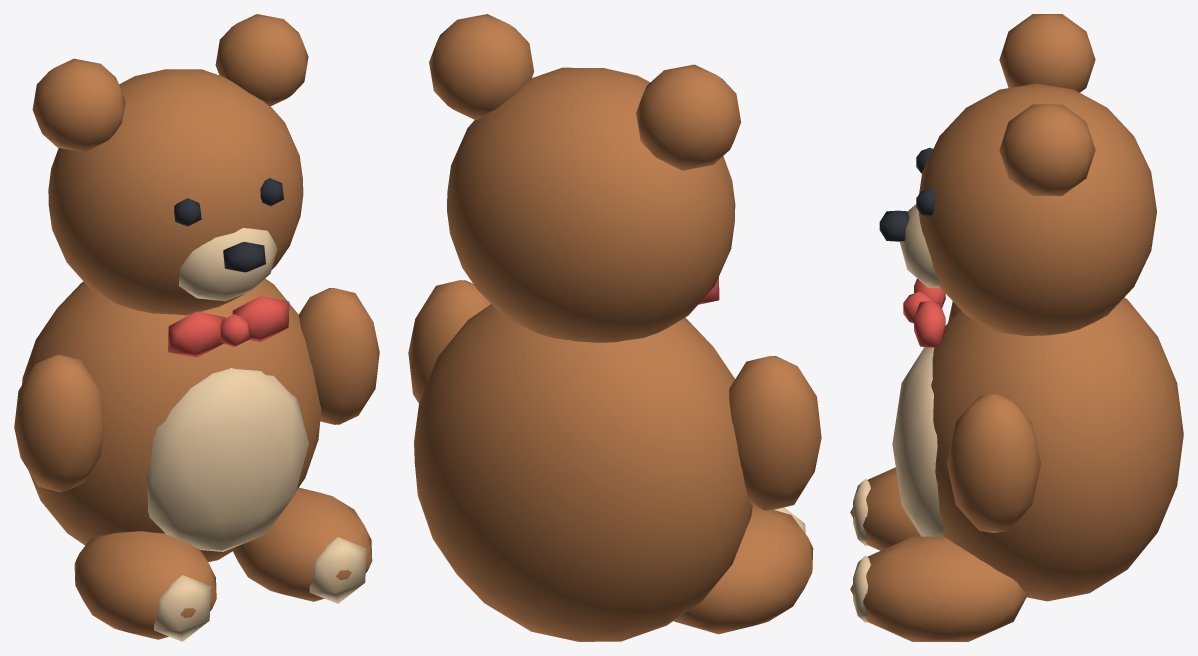
File: ursinho.glb
The picture shows the model from 3 angles, left to right: view 1: azimuth 30°, elevation 25°; view 2: azimuth 150°, elevation 25°; view 3: azimuth 270°, elevation 25°; orthographic projection. The views are drawn at different scales.
Parts seen in each view (by area): view 1: ursinho; view 2: ursinho; view 3: ursinho.
Part boxes in pixels (<box>): ursinho: <box>14,14,379,641</box>; ursinho: <box>408,14,821,641</box>; ursinho: <box>850,14,1183,641</box>.
Bounding box in the file's own units: 0.7674 × 1.11 × 0.624.
